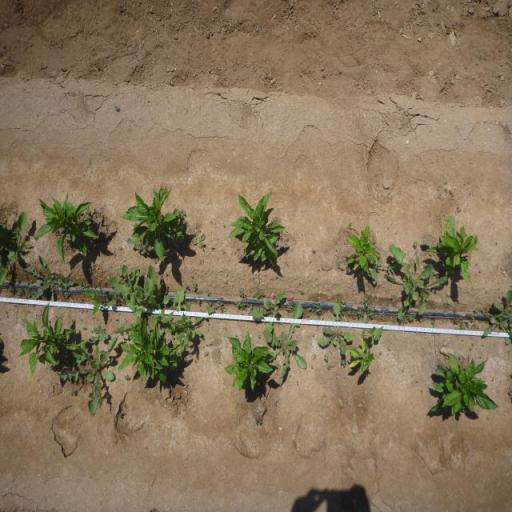plant: (226, 188, 287, 270), (428, 350, 498, 420), (119, 189, 184, 262), (34, 192, 99, 263), (17, 302, 79, 376), (119, 323, 177, 386), (222, 330, 272, 396), (427, 222, 481, 283), (344, 224, 382, 273), (348, 326, 384, 376)
weed: (54, 333, 121, 416), (383, 243, 447, 321), (151, 288, 216, 363), (110, 262, 160, 335), (262, 301, 307, 379), (22, 253, 77, 301), (0, 208, 28, 286), (318, 300, 354, 356), (482, 288, 512, 344), (249, 288, 287, 321), (79, 282, 114, 316), (366, 255, 402, 288), (126, 237, 151, 258), (87, 324, 109, 344), (155, 280, 170, 308), (192, 232, 206, 253), (214, 300, 228, 312), (106, 293, 116, 307), (22, 240, 31, 252), (78, 281, 90, 290), (338, 298, 348, 308), (60, 290, 70, 299), (234, 300, 243, 310), (355, 308, 363, 319), (179, 206, 185, 220), (23, 289, 32, 298), (340, 358, 348, 368), (398, 319, 408, 327), (457, 321, 465, 331), (468, 314, 476, 324), (255, 418, 263, 428), (243, 303, 254, 310), (24, 276, 33, 284), (482, 308, 490, 317), (16, 288, 23, 298), (256, 292, 266, 299), (316, 305, 322, 316), (380, 312, 386, 323), (6, 285, 14, 293), (286, 296, 294, 304), (286, 304, 292, 314), (324, 354, 330, 364), (351, 310, 357, 320), (364, 296, 369, 308), (313, 294, 320, 302), (425, 316, 432, 324), (454, 316, 459, 326), (70, 388, 76, 396), (196, 298, 202, 306), (408, 314, 414, 322), (238, 289, 244, 296), (14, 276, 20, 282), (124, 374, 130, 380), (116, 412, 122, 418), (205, 290, 211, 296), (192, 281, 196, 289), (369, 310, 373, 318), (413, 241, 417, 248), (184, 282, 188, 288), (252, 292, 256, 298), (347, 310, 351, 316), (452, 308, 456, 314), (474, 308, 478, 314), (308, 308, 312, 310)
